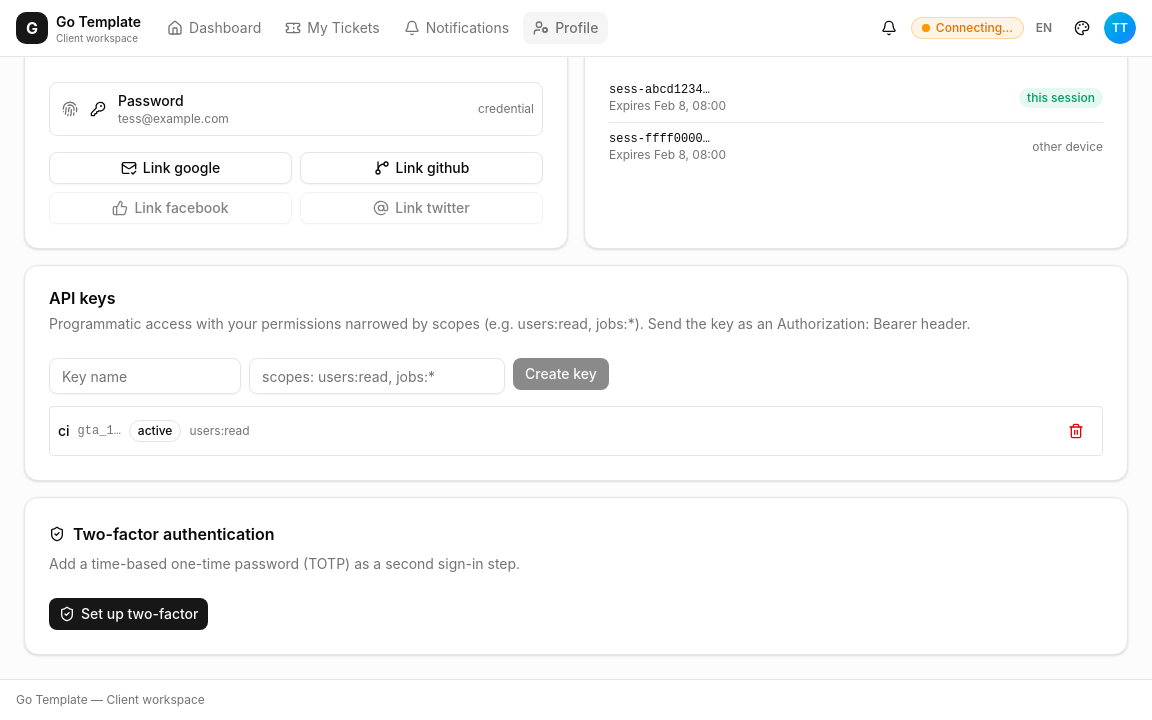
Test case: profile page › shows an API key secret exactly once and revokes keys
(page scrolled)
In the field with placeholder "Key name": [145, 376] box x1=49 y1=358 x2=241 y2=394, type "ci"
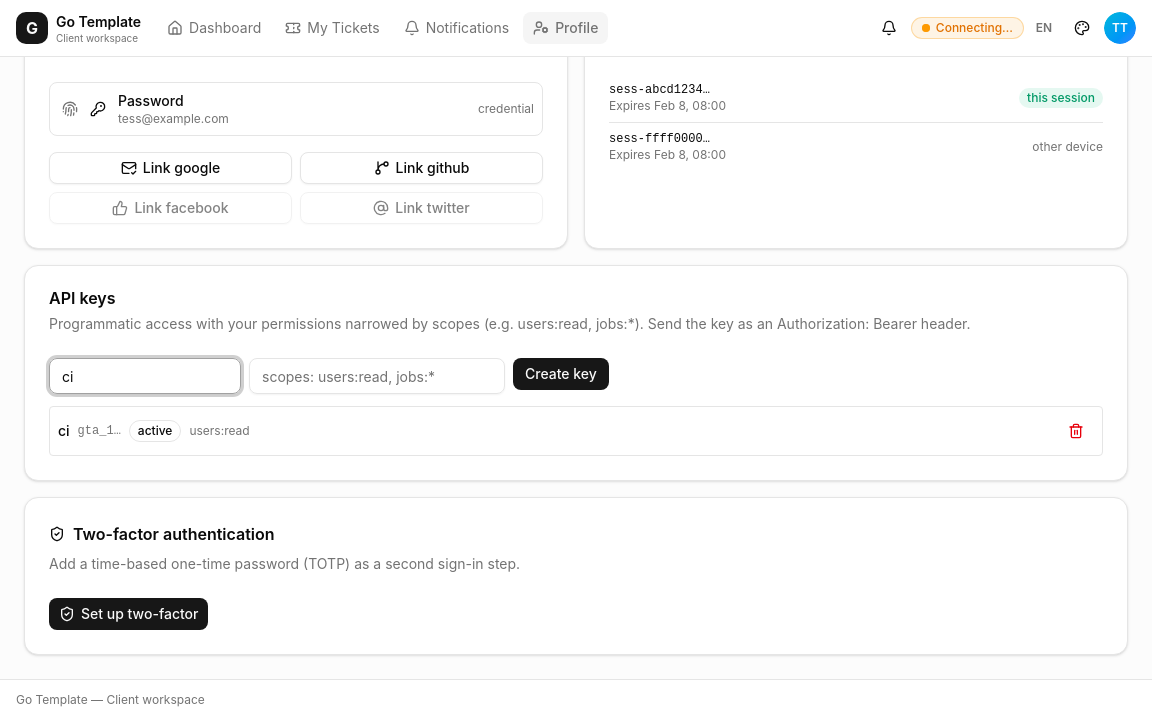
In the field with placeholder "scopes: users:read, jobs:*": [377, 376] box x1=249 y1=358 x2=505 y2=394, type "users:read"
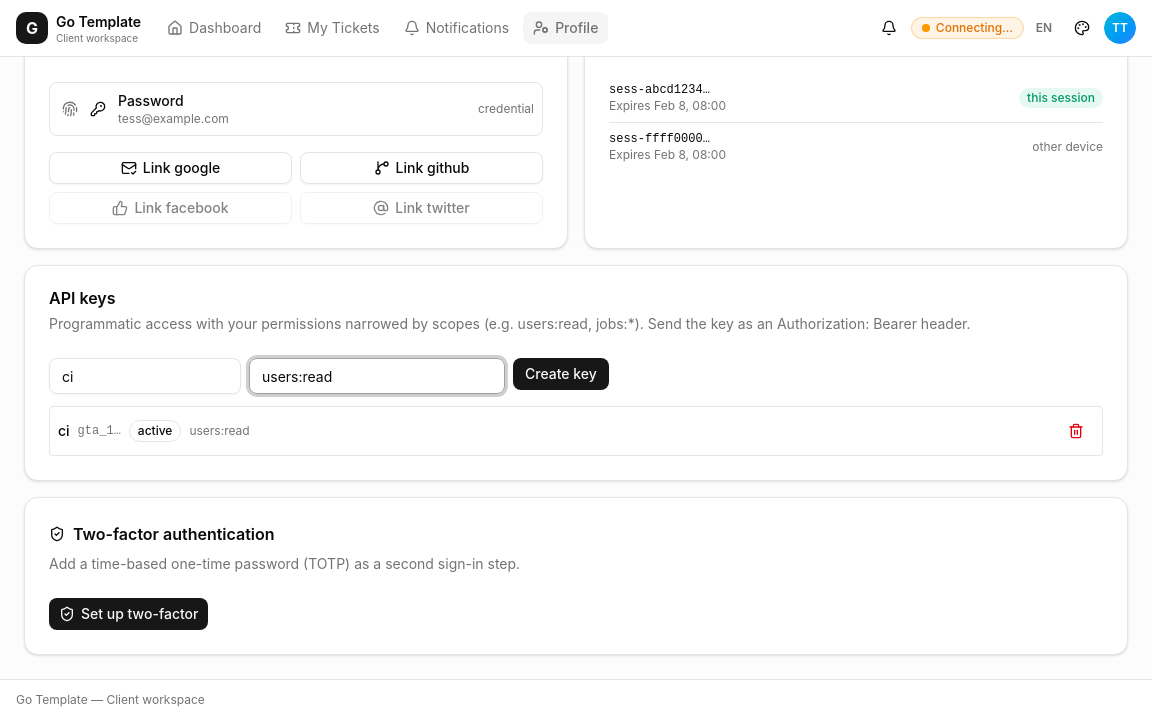
Click the button "Create key": [561, 374] box x1=513 y1=358 x2=609 y2=390
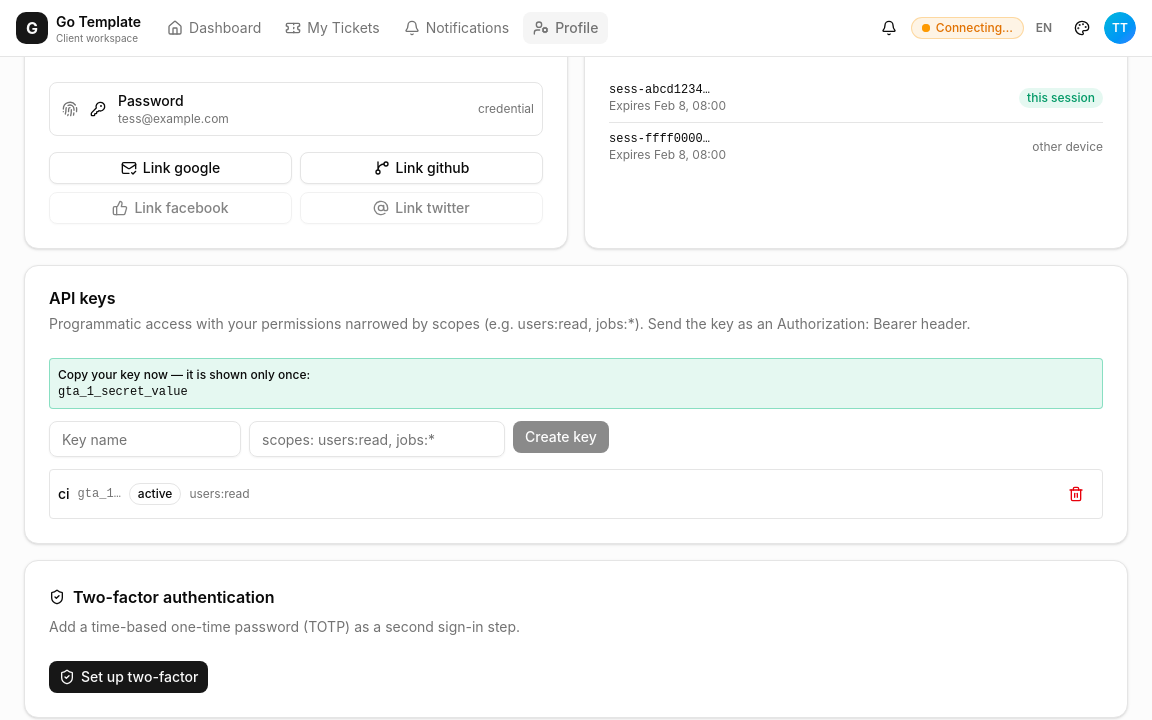
Check: the text "Copy your key now — it is shown only once:" is shown, box x1=58 y1=367 x2=310 y2=382
Check: the text "gta_1_secret_value" is shown, box x1=58 y1=385 x2=188 y2=399
Click the button named "Revoke ci": [1076, 494] box x1=1058 y1=476 x2=1094 y2=512
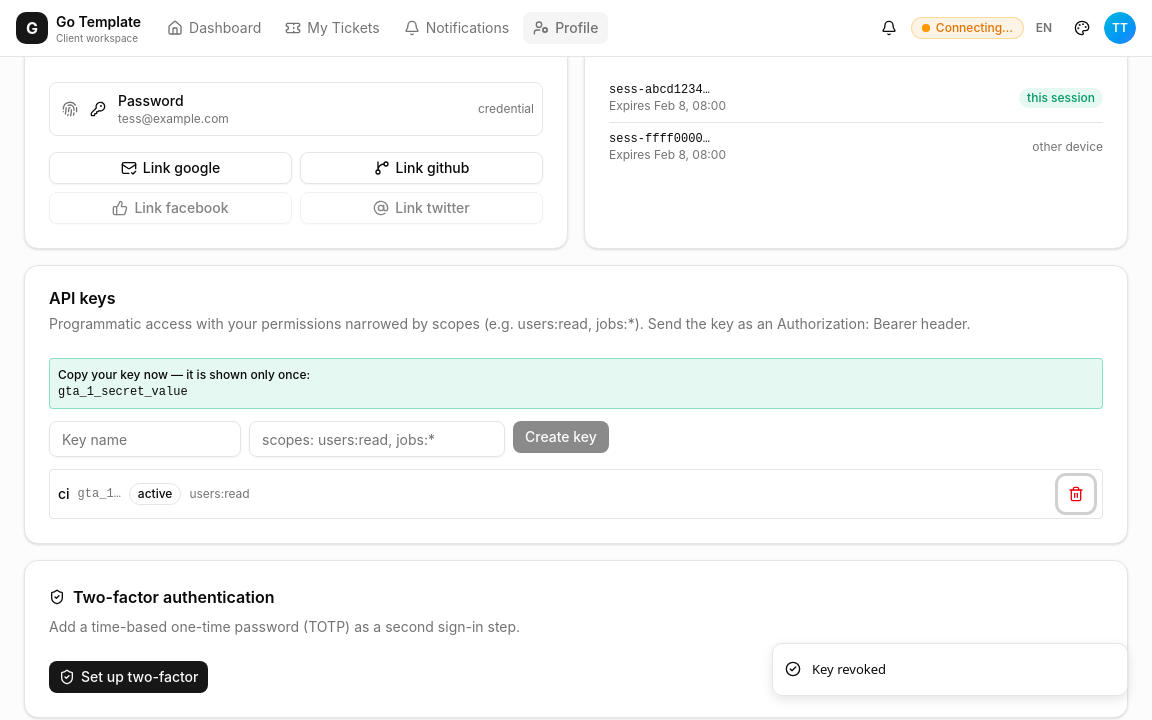
Check: the text "Key revoked" is shown, box x1=812 y1=660 x2=886 y2=679
